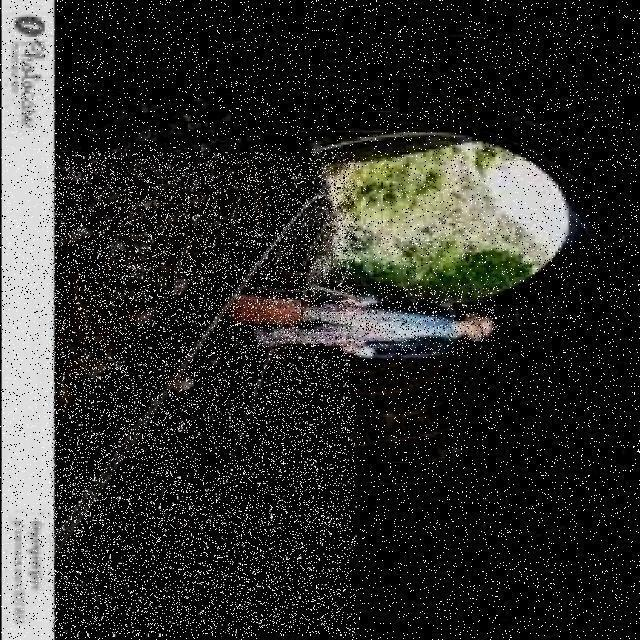rail: (54, 154, 356, 636)
